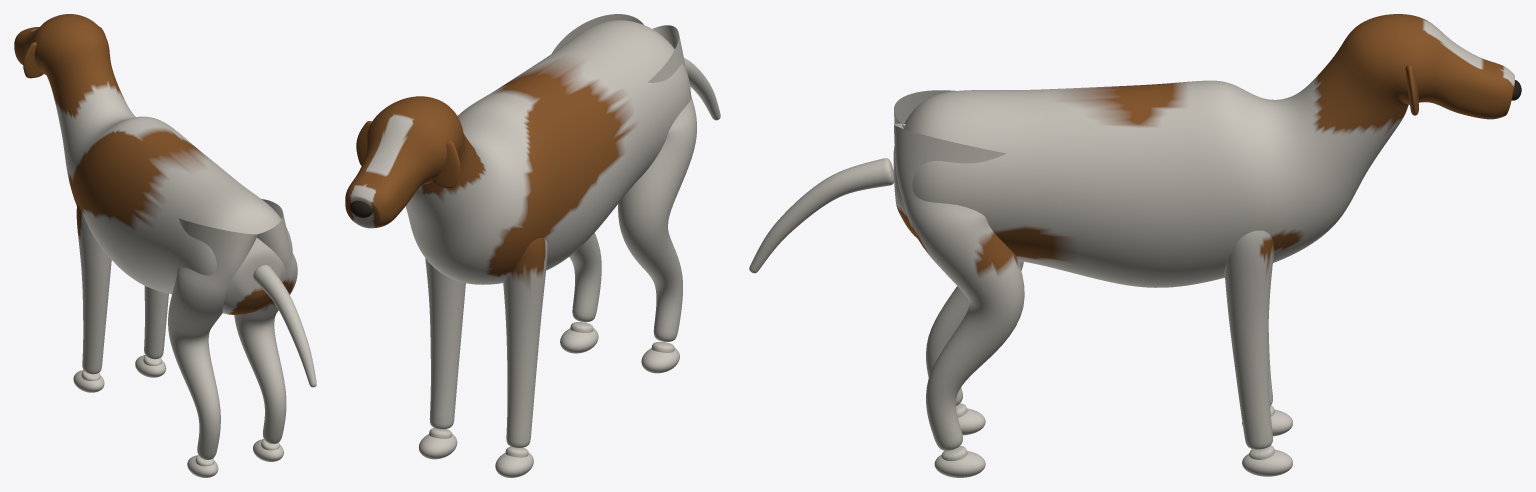
The model's file is dog_small_standing.gltf.
3 renders of one model, left to right at view 1: azimuth 30°, elevation 25°; view 2: azimuth 150°, elevation 25°; view 3: azimuth 270°, elevation 25°, orthographic. The views are drawn at different scales.
Parts seen in each view (by area): view 1: dog_small; view 2: dog_small; view 3: dog_small.
Boxes of the visible parts, <box> form: dog_small: <box>14,14,316,477</box>; dog_small: <box>345,14,720,477</box>; dog_small: <box>749,14,1521,477</box>.
Bounding box in the file's own units: 0.1613 × 0.4466 × 0.7183.
